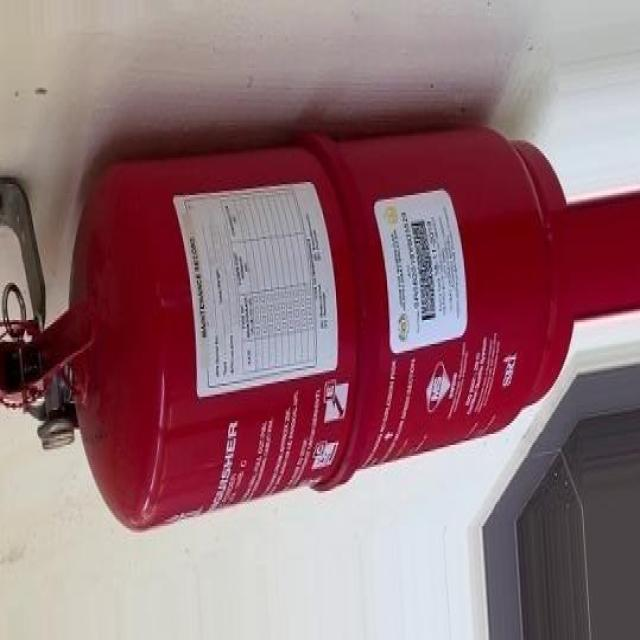fire_extinguisher: (0, 117, 578, 538)
